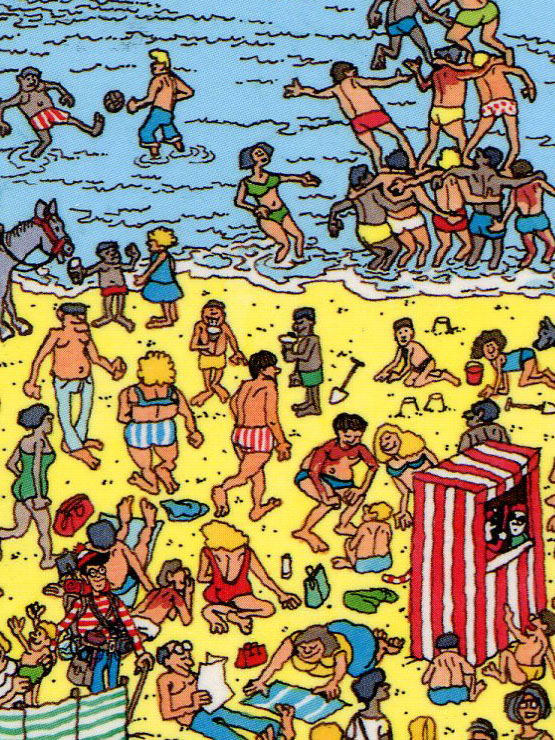waldo: (75, 544, 109, 593)
